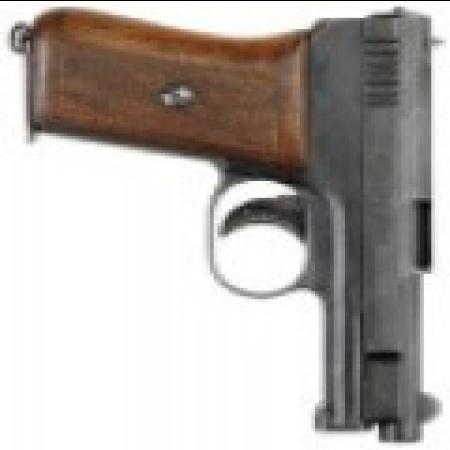Pistol: (42, 9, 447, 433)
